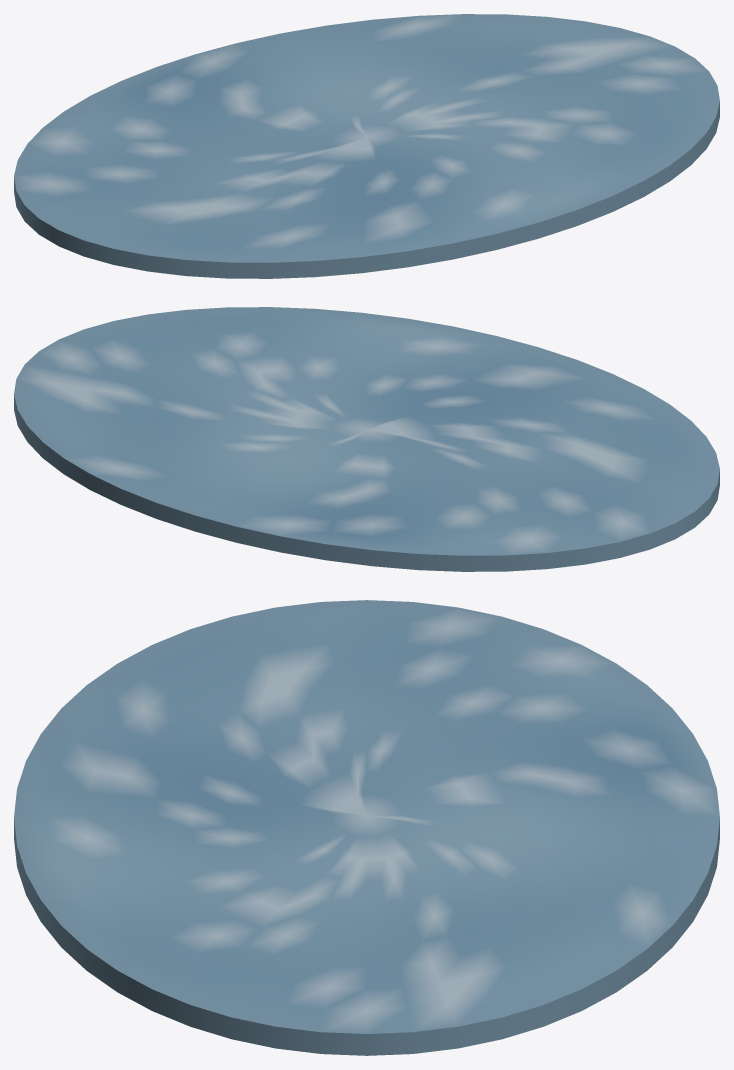
The model's file is Xmas_Ice_Col.fbx.
3 views of the same model, one above another, from view 1: azimuth 30°, elevation 25°; view 2: azimuth 150°, elevation 25°; view 3: azimuth 270°, elevation 25° (orthographic). The views are drawn at different scales.
Visible parts, largest first — view 1: Xmas_Ice_Col; view 2: Xmas_Ice_Col; view 3: Xmas_Ice_Col.
Boxes of the visible parts, <box> form: Xmas_Ice_Col: <box>14,14,719,278</box>; Xmas_Ice_Col: <box>14,307,719,571</box>; Xmas_Ice_Col: <box>14,600,719,1055</box>.
Size of the model in its own units: 32 by 0.8 by 22.
